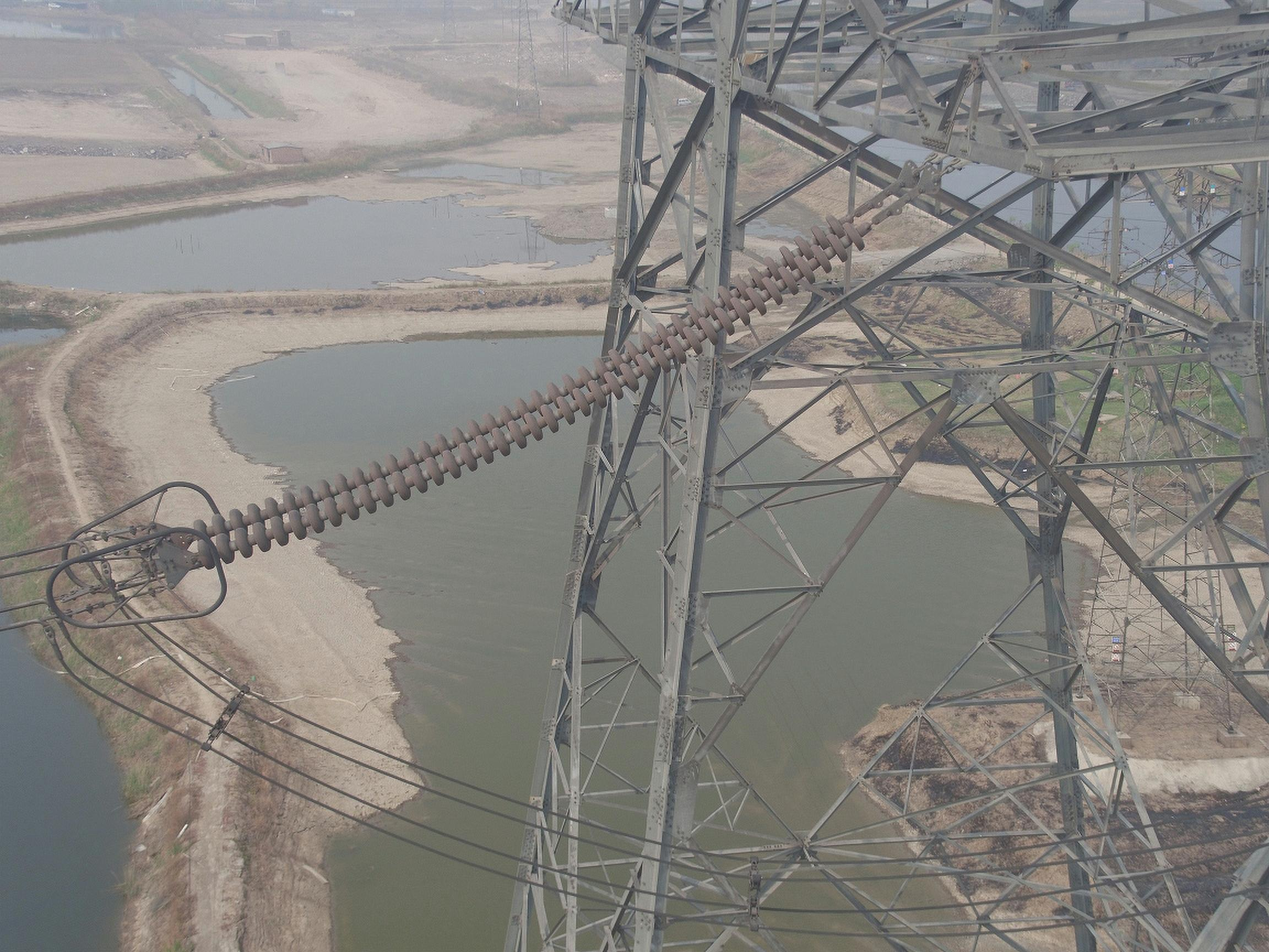insulator: (188, 209, 869, 574)
